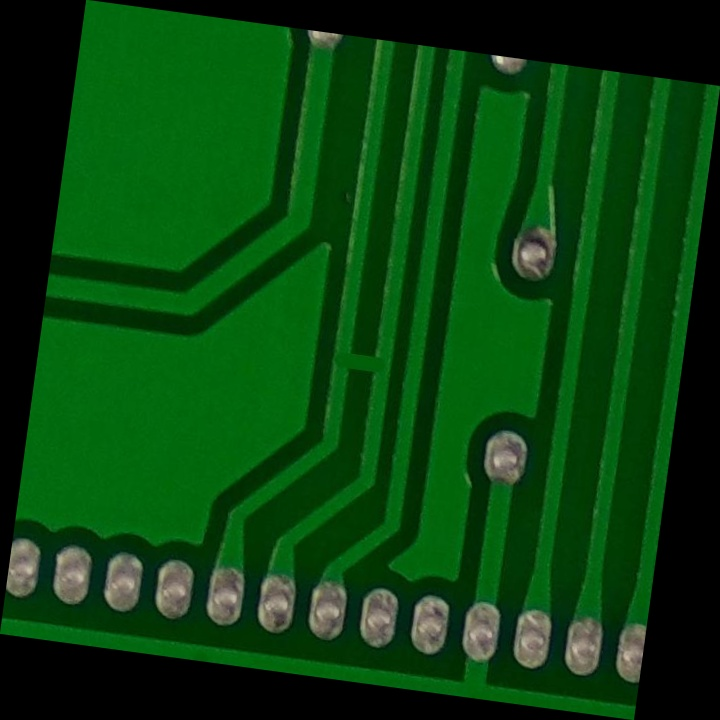short: (320, 328, 401, 393)
